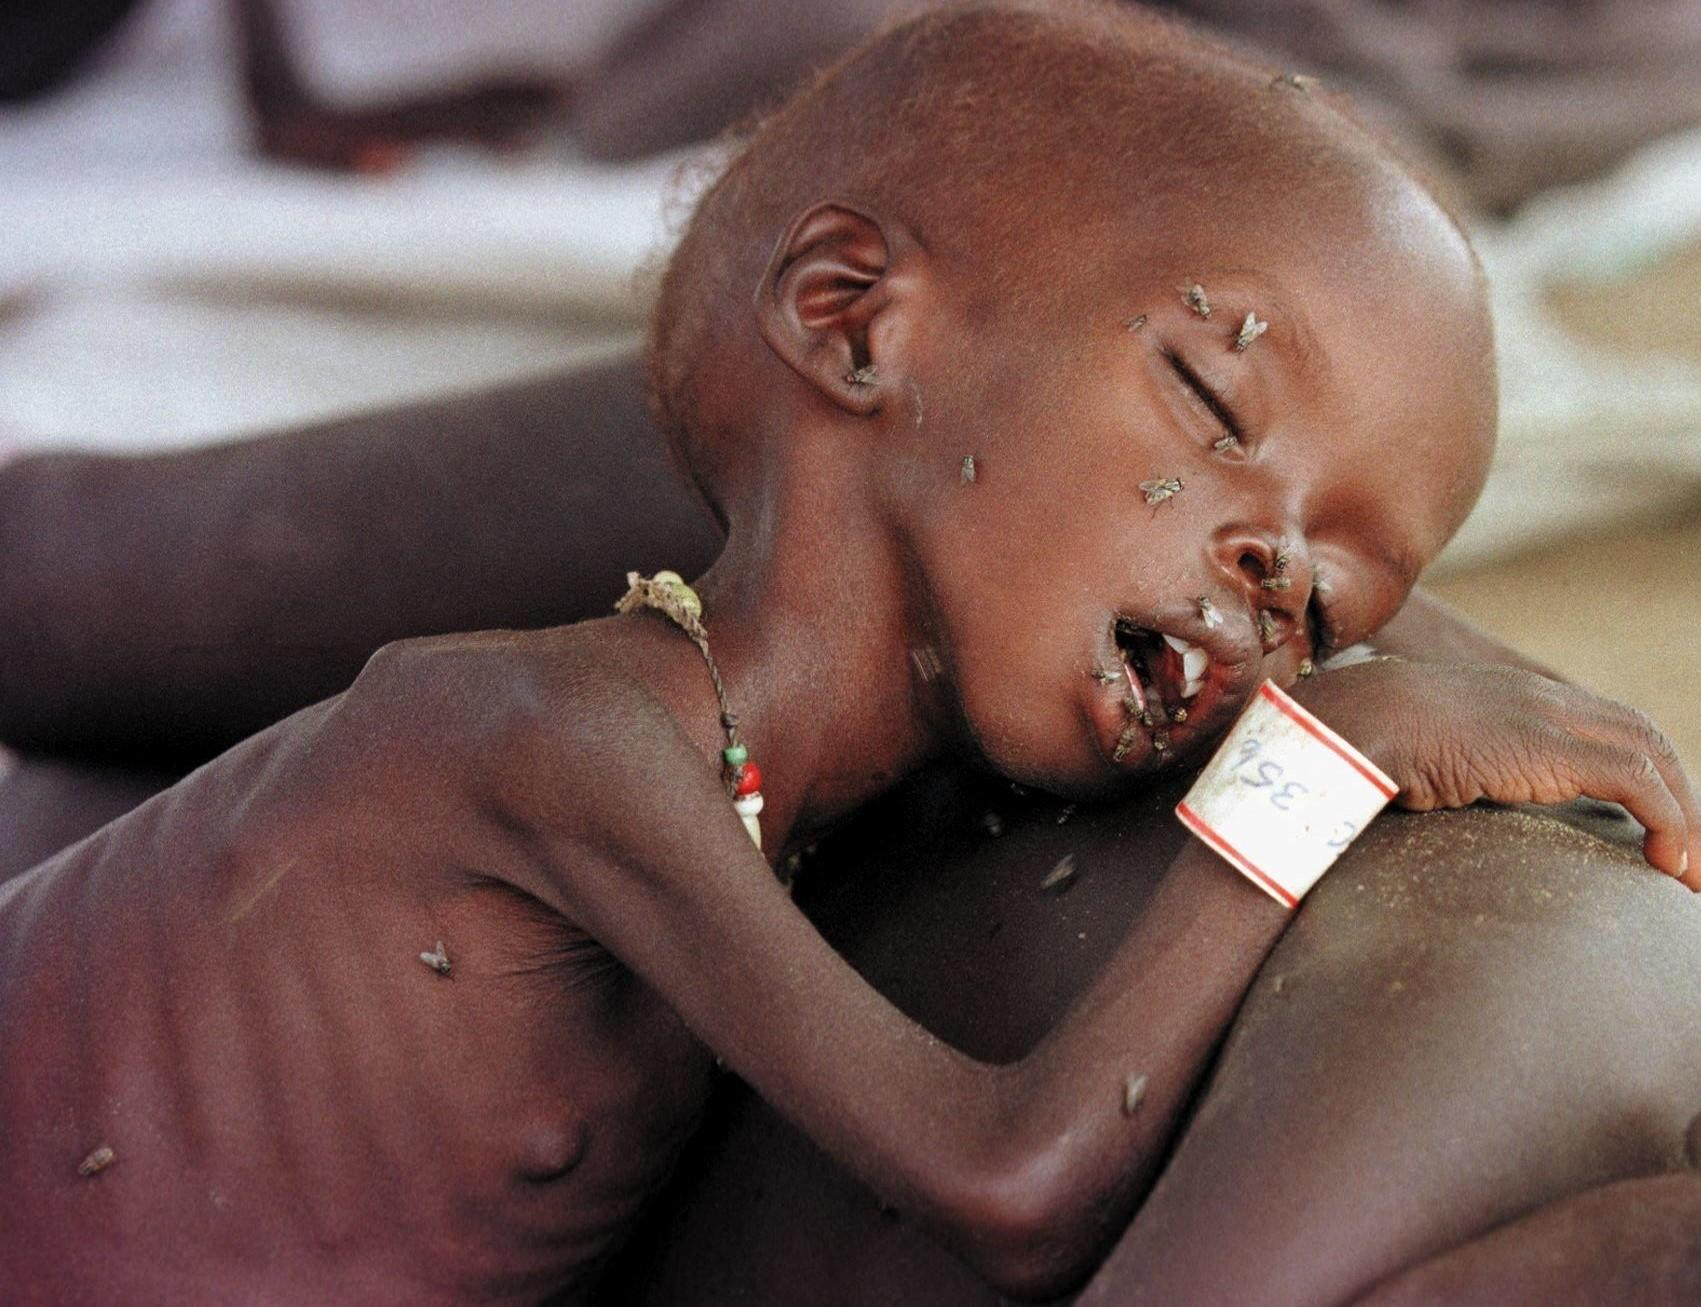Stunting: (586, 0, 1480, 820)
